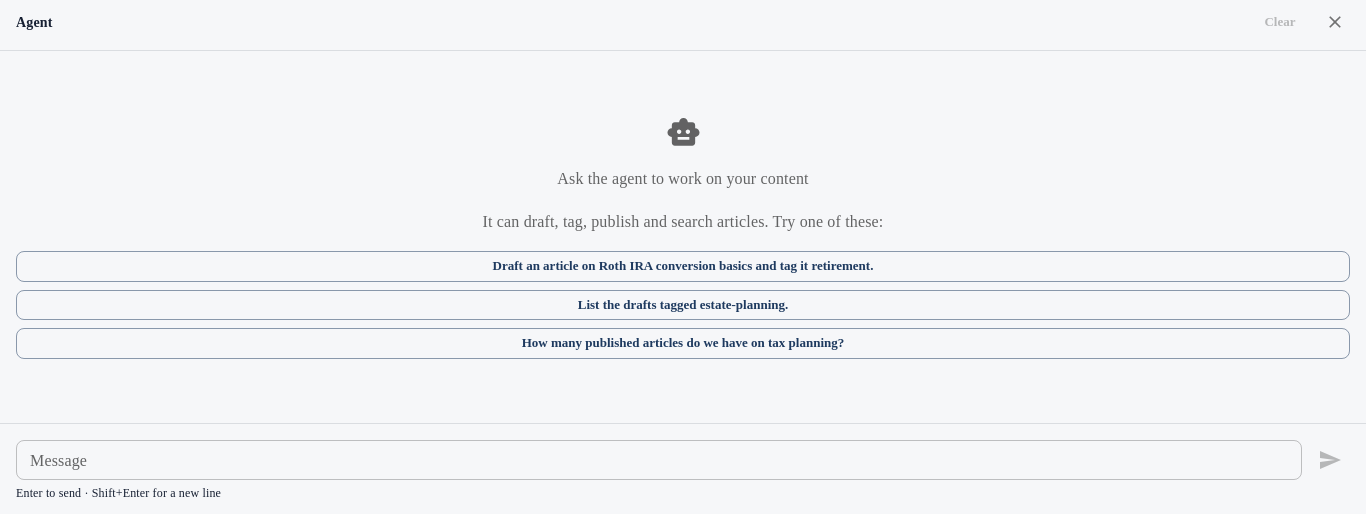
AgentPanel › Stop aborts the stream and keeps what arrived, with no error
This screenshot has width=1366, height=514.
Type "Q" into the text box labelled "Message" at (659, 460), box [30,449,1288,472]
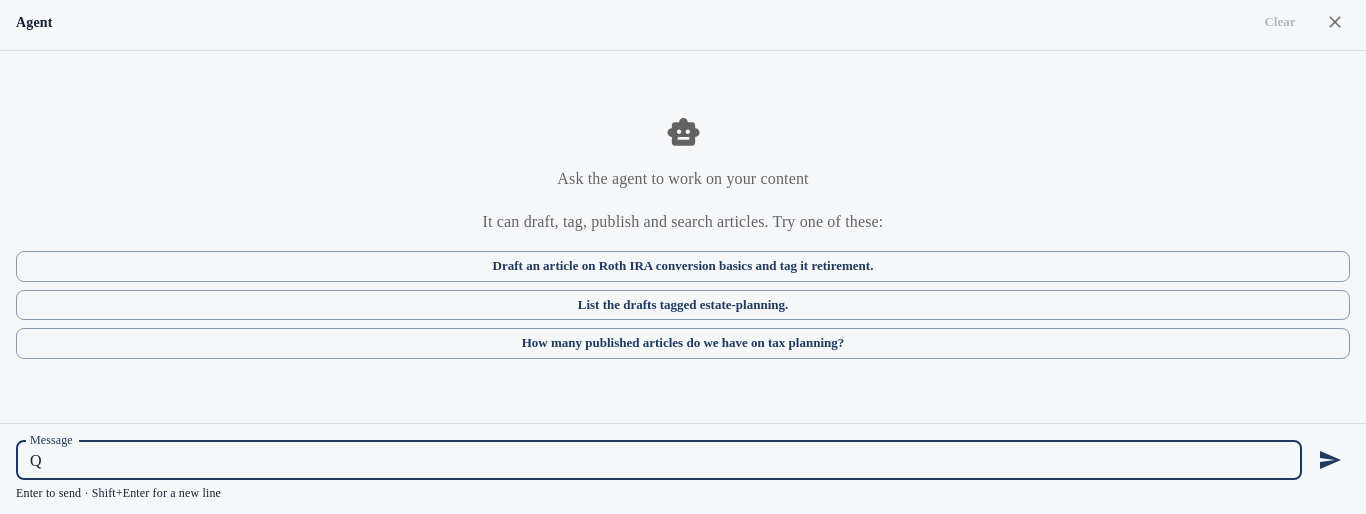
Click the button named "Send" at (1330, 460), box [1310,440,1350,480]
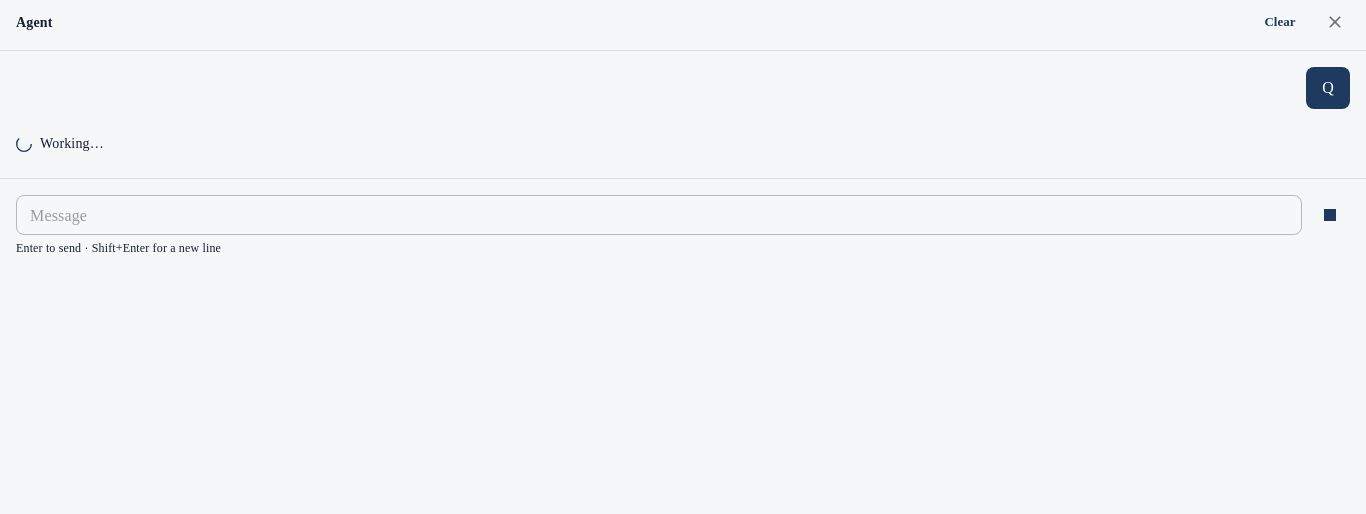
Click the button named "Stop" at (1330, 215), box [1310,195,1350,235]
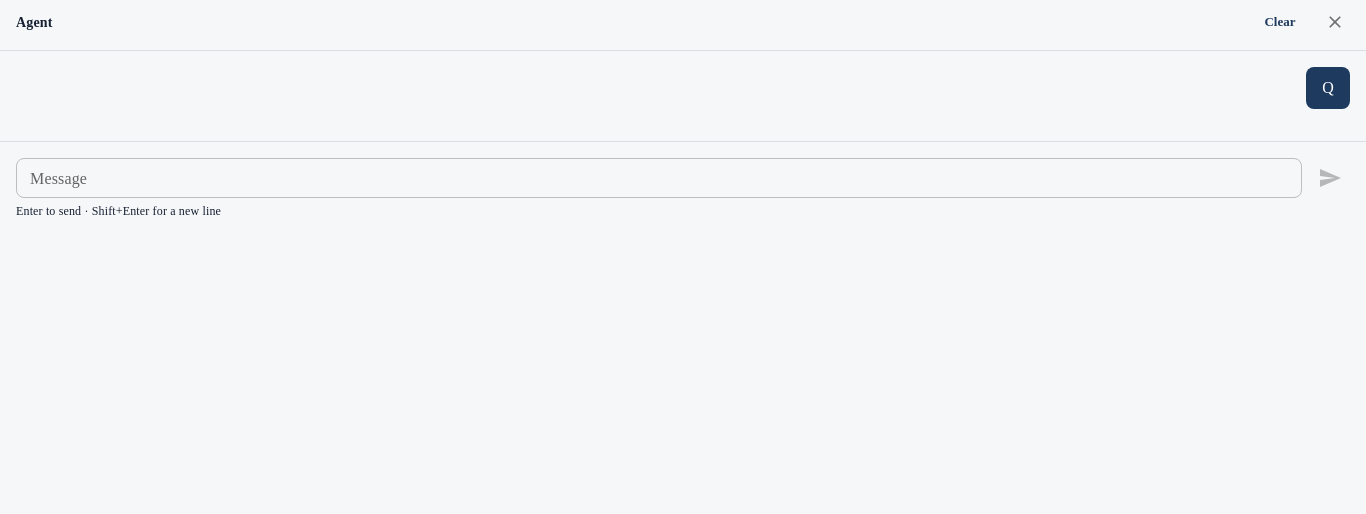
Expected: the text named "You" reads "Q", [1322,79,1334,96]
Expected: the button named "Send" is shown, [1310,158,1350,198]
Expected: the message "Working…" is gone
